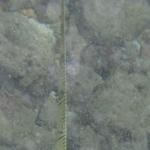dead: (65, 7, 145, 145)
